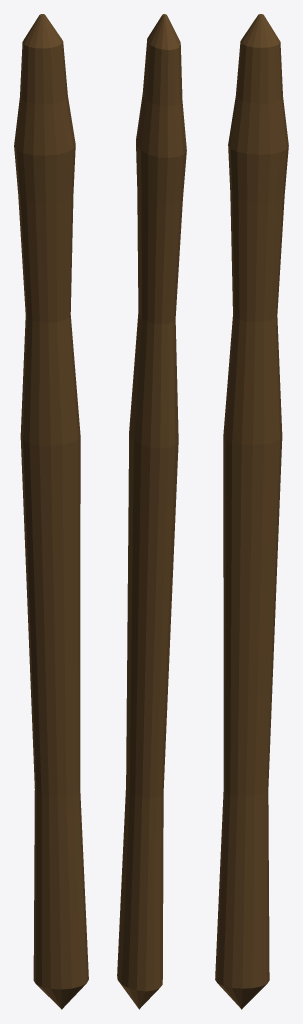
File: Stick.fbx
3 renders of one model, left to right at view 1: azimuth 90°, elevation 25°; view 2: azimuth 210°, elevation 25°; view 3: azimuth 270°, elevation 25°, orthographic.
Parts seen in each view (by area): view 1: Cylinder; view 2: Cylinder; view 3: Cylinder.
Part boxes in pixels (bbox=[...]): Cylinder: bbox=[14, 14, 88, 1009]; Cylinder: bbox=[117, 14, 186, 1009]; Cylinder: bbox=[215, 14, 288, 1009].
Bounding box in the file's own units: 22.27 × 405 × 27.45.
